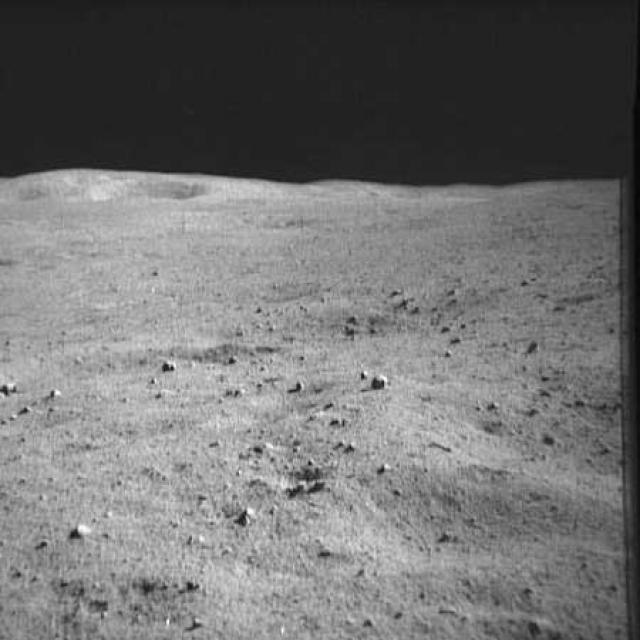crater: (292, 459, 601, 582), (452, 403, 516, 448)
rock: (62, 516, 108, 548), (233, 499, 270, 532), (246, 439, 282, 461), (314, 538, 342, 564), (539, 425, 564, 450), (224, 384, 253, 404), (365, 373, 396, 391), (156, 354, 180, 376), (216, 350, 242, 370), (0, 377, 19, 402), (385, 282, 411, 300), (184, 572, 204, 594), (290, 376, 316, 392), (443, 333, 470, 348), (43, 384, 64, 402), (344, 312, 366, 328), (184, 612, 205, 628)
